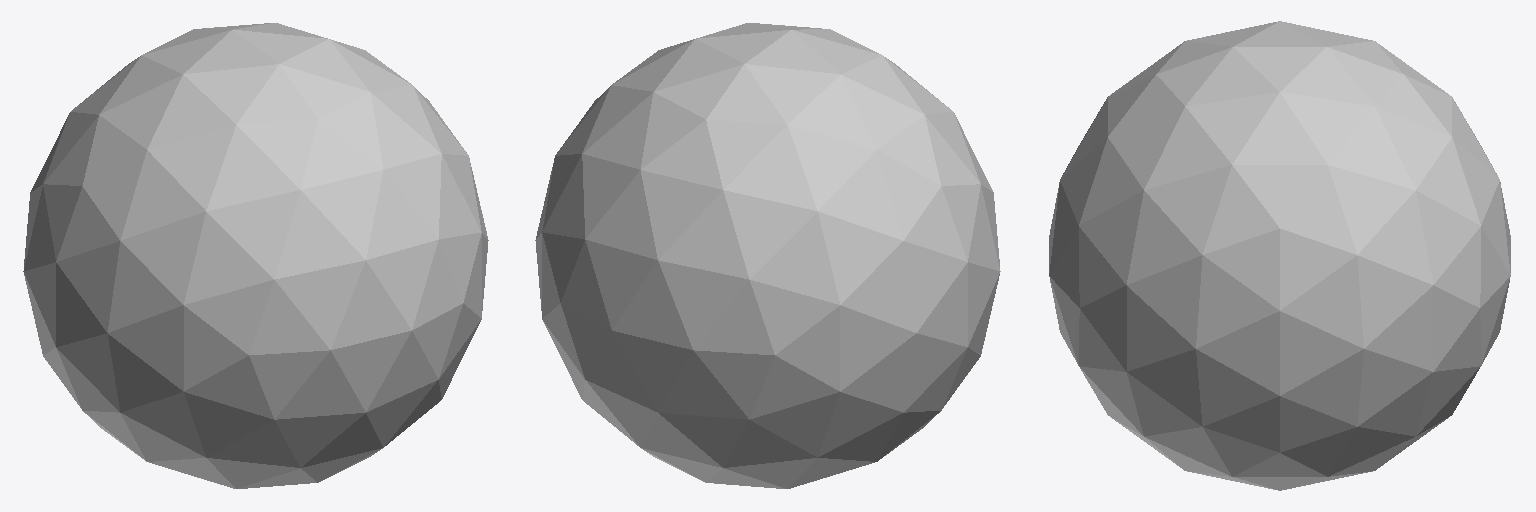
File: 7-geodesic.obj
3 renders of one model, left to right at view 1: azimuth 30°, elevation 25°; view 2: azimuth 150°, elevation 25°; view 3: azimuth 270°, elevation 25°, orthographic.
Bounding box in the file's own units: 1.96 × 1.96 × 1.96.